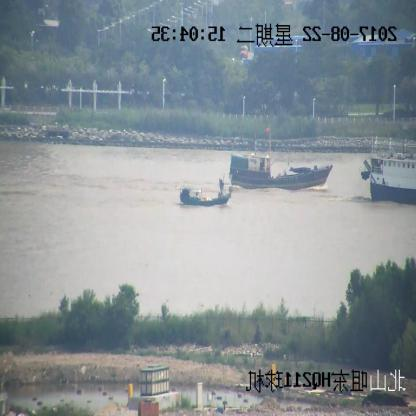Fishing Boat: (229, 127, 332, 190), (361, 139, 416, 202), (180, 178, 232, 209)
